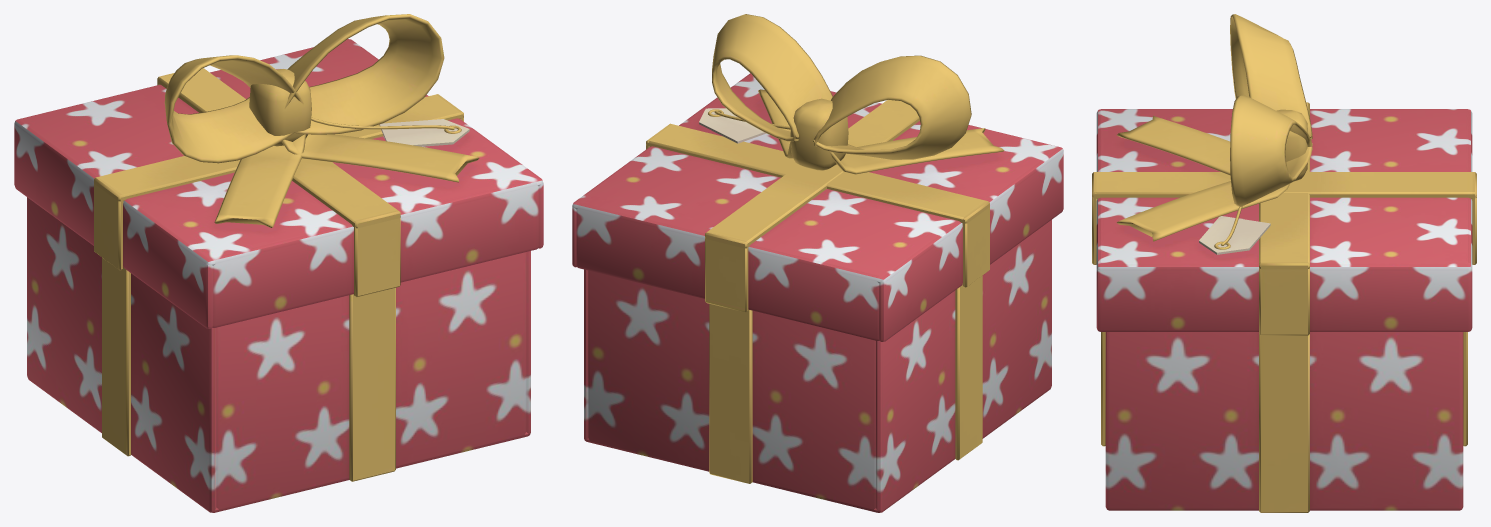
Rendered from regalo.glb.
3 renders of one model, left to right at view 1: azimuth 30°, elevation 25°; view 2: azimuth 150°, elevation 25°; view 3: azimuth 270°, elevation 25°, orthographic. The views are drawn at different scales.
Visible parts, largest first — view 1: gift-box_lid, gift-box_body; view 2: gift-box_lid, gift-box_body; view 3: gift-box_lid, gift-box_body.
Boxes of the visible parts, x1=… form: gift-box_lid: x1=14, y1=14, x2=543, y2=328; gift-box_body: x1=27, y1=197, x2=530, y2=512; gift-box_lid: x1=572, y1=14, x2=1063, y2=341; gift-box_body: x1=584, y1=220, x2=1051, y2=512; gift-box_lid: x1=1092, y1=14, x2=1476, y2=335; gift-box_body: x1=1101, y1=332, x2=1467, y2=512.
Size of the model in its own units: 0.258 by 0.278 by 0.258.
Materials: 2 (2 with a texture image).
